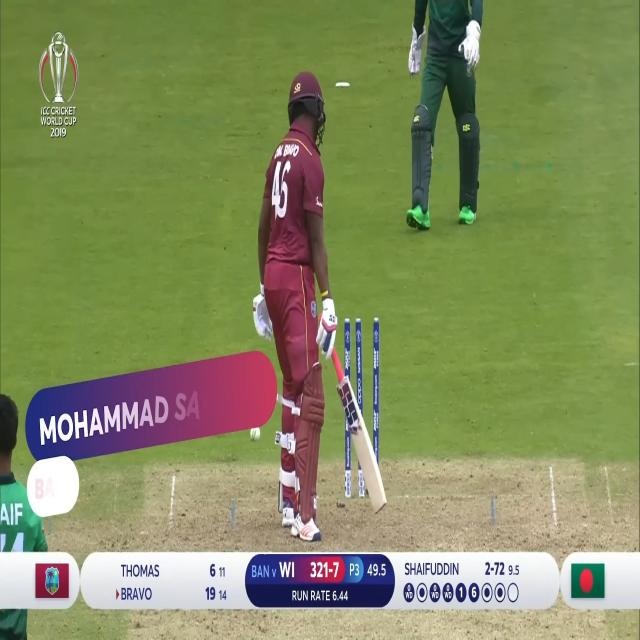ball: (249, 428, 266, 448)
